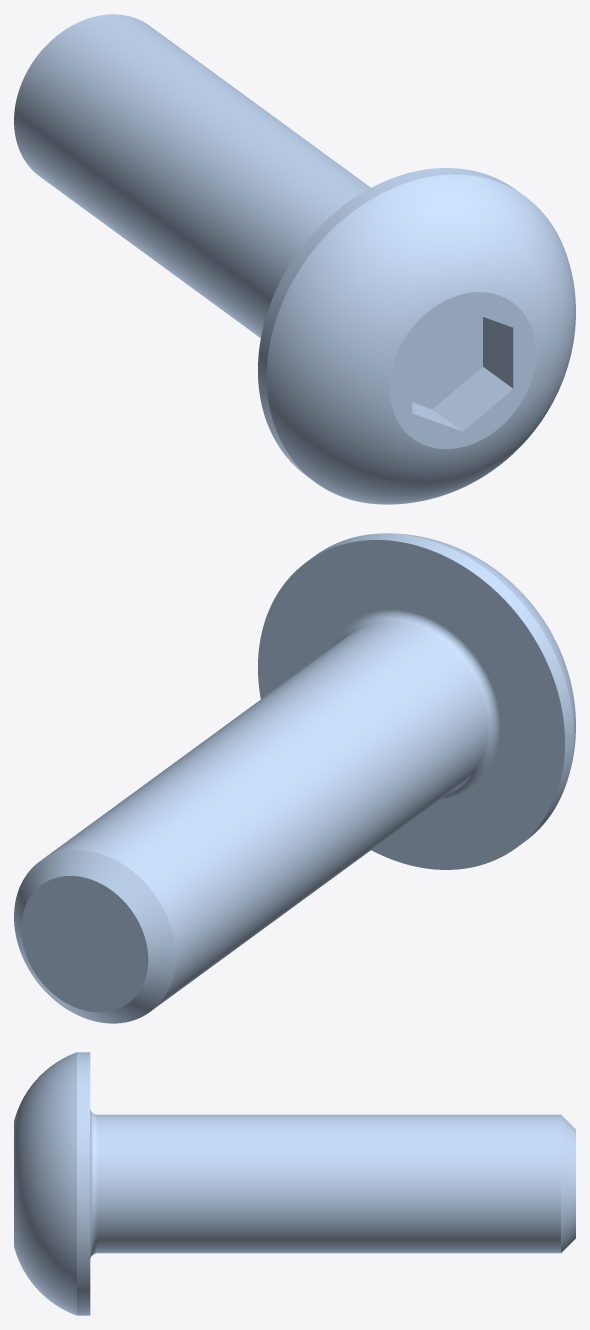
File: tol.glb
The picture shows the model from 3 angles, top to bottom: view 1: azimuth 30°, elevation 25°; view 2: azimuth 150°, elevation 25°; view 3: azimuth 270°, elevation 25°; orthographic projection. The views are drawn at different scales.
Parts seen in each view (by area): view 1: half_round_screw001; view 2: half_round_screw001; view 3: half_round_screw001.
Part boxes in pixels (bbox=[...]): half_round_screw001: bbox=[14, 14, 575, 504]; half_round_screw001: bbox=[14, 533, 575, 1023]; half_round_screw001: bbox=[14, 1052, 575, 1315].
Bounding box in the file's own units: 0.0076 × 0.0076 × 0.0162.
